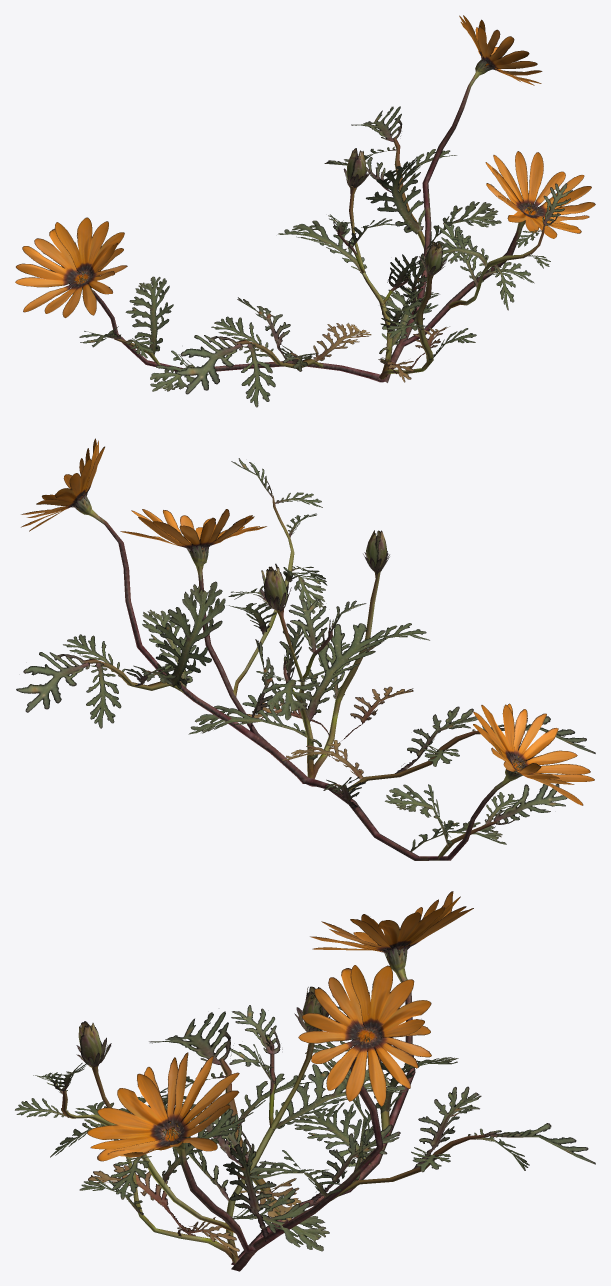
Rendered from OrangeFlower_C.fbx.
The picture shows the model from 3 angles, top to bottom: view 1: azimuth 30°, elevation 25°; view 2: azimuth 150°, elevation 25°; view 3: azimuth 270°, elevation 25°; orthographic projection. The views are drawn at different scales.
Parts seen in each view (by area): view 1: OrangeFlower_C; view 2: OrangeFlower_C; view 3: OrangeFlower_C.
Part boxes in pixels (x1,y1,x2,y2): OrangeFlower_C: (15, 15, 595, 407); OrangeFlower_C: (16, 438, 595, 860); OrangeFlower_C: (15, 891, 595, 1271).
Size of the model in its own units: 0.2792 by 0.16 by 0.2124.
1 material, 1 textured.
